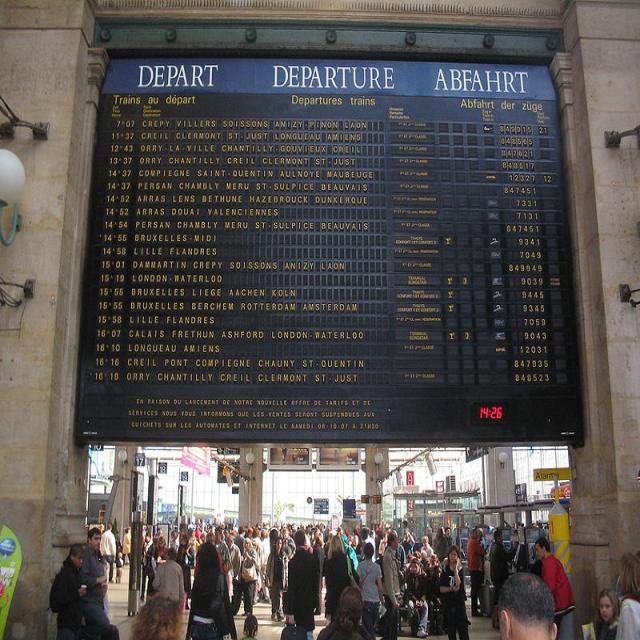body: (183, 539, 242, 639), (75, 525, 118, 639), (495, 567, 558, 639), (47, 541, 89, 639), (286, 530, 320, 634), (534, 536, 575, 620), (437, 543, 472, 639), (314, 583, 374, 639), (324, 533, 356, 624), (126, 592, 186, 640), (355, 541, 384, 640), (505, 530, 531, 623), (613, 548, 639, 639), (382, 529, 402, 640), (151, 546, 185, 611), (404, 556, 430, 639), (265, 534, 289, 623), (489, 529, 514, 609), (383, 529, 402, 625), (466, 527, 484, 619), (593, 586, 620, 640), (240, 536, 258, 616), (195, 530, 224, 575), (176, 532, 195, 600), (98, 520, 116, 584), (244, 536, 259, 607), (282, 528, 298, 592), (140, 530, 154, 602), (496, 516, 550, 534), (224, 528, 242, 579), (305, 520, 333, 552), (402, 549, 440, 571), (95, 522, 109, 576), (260, 529, 270, 603), (192, 518, 238, 534), (358, 525, 377, 563), (213, 524, 231, 564), (401, 518, 421, 550), (238, 613, 260, 640), (434, 526, 449, 563), (337, 524, 358, 549), (278, 624, 308, 640), (121, 526, 132, 567), (234, 524, 248, 556), (243, 520, 274, 534), (112, 528, 123, 567), (476, 526, 490, 556), (419, 534, 435, 560), (175, 514, 192, 538), (99, 623, 121, 640), (368, 520, 385, 541), (274, 520, 306, 531), (114, 550, 124, 584), (380, 527, 394, 549), (170, 529, 182, 554), (154, 515, 175, 529), (444, 526, 454, 550), (156, 527, 164, 538)
